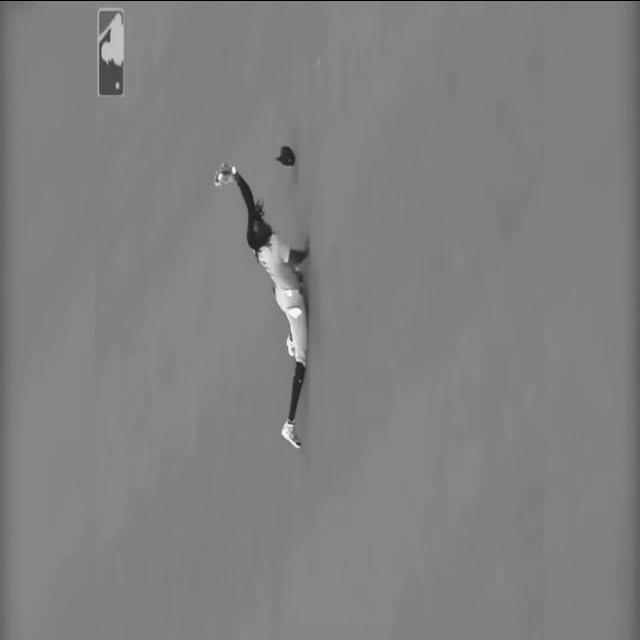baseball: (218, 170, 222, 180)
baseball_glove: (212, 158, 235, 186)
shoe: (280, 421, 304, 447), (288, 336, 296, 359)
